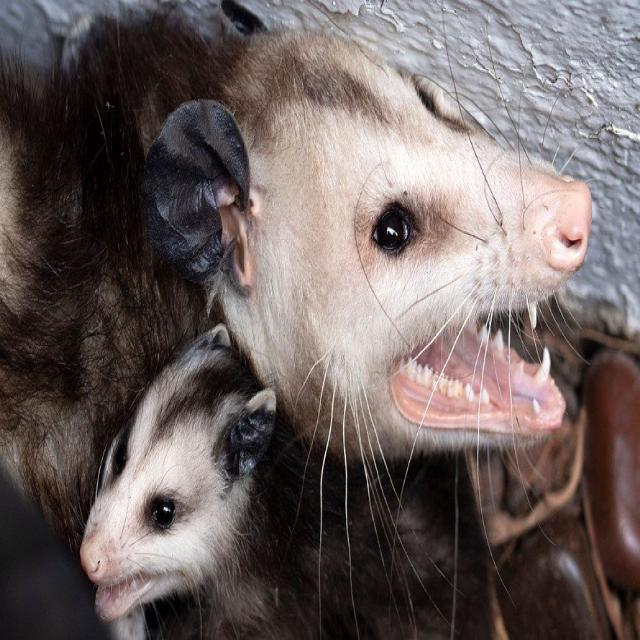Possum: (0, 14, 597, 567), (79, 323, 287, 640)
